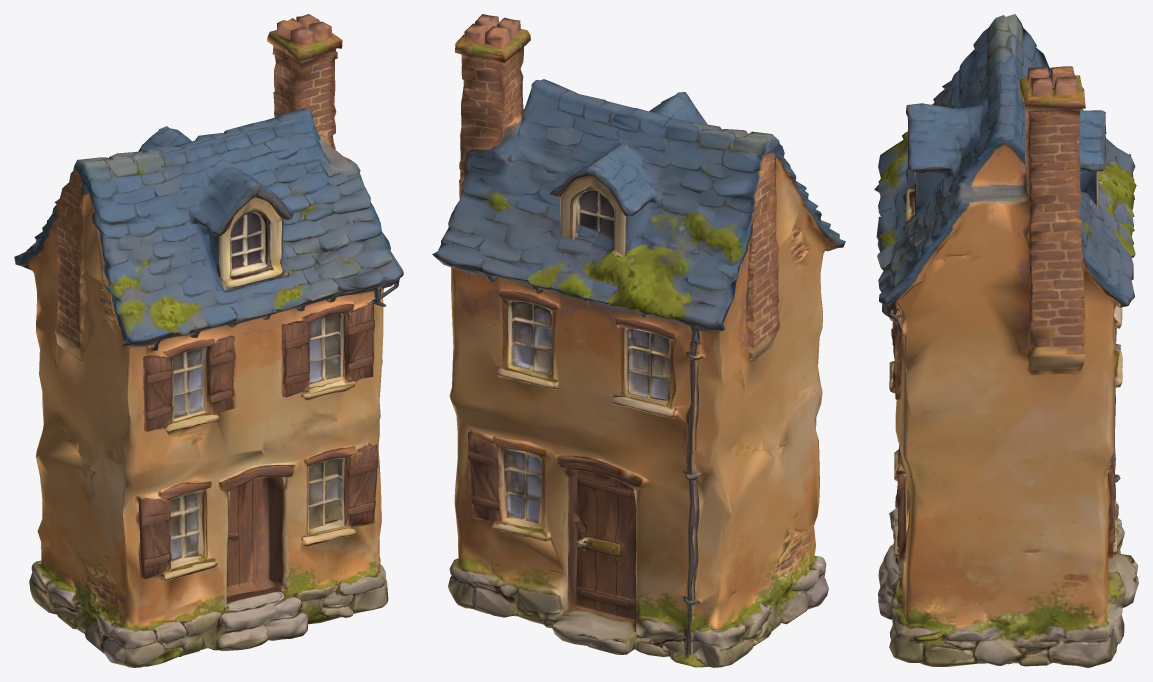
Rendered from town_house_townhouse_slate.glb.
3 views of the same model, side by side, from view 1: azimuth 30°, elevation 25°; view 2: azimuth 150°, elevation 25°; view 3: azimuth 270°, elevation 25° (orthographic). The views are drawn at different scales.
Parts seen in each view (by area): view 1: tripo_node_370db4f3-5a4b-49ab-911d-9874e03ec08e; view 2: tripo_node_370db4f3-5a4b-49ab-911d-9874e03ec08e; view 3: tripo_node_370db4f3-5a4b-49ab-911d-9874e03ec08e.
Part boxes in pixels (x1=…): tripo_node_370db4f3-5a4b-49ab-911d-9874e03ec08e: x1=14, y1=14, x2=403, y2=667; tripo_node_370db4f3-5a4b-49ab-911d-9874e03ec08e: x1=432, y1=14, x2=845, y2=667; tripo_node_370db4f3-5a4b-49ab-911d-9874e03ec08e: x1=874, y1=14, x2=1138, y2=667.
Size of the model in its own units: 4.99 by 9 by 3.69.
Materials: 1 (1 with a texture image).
